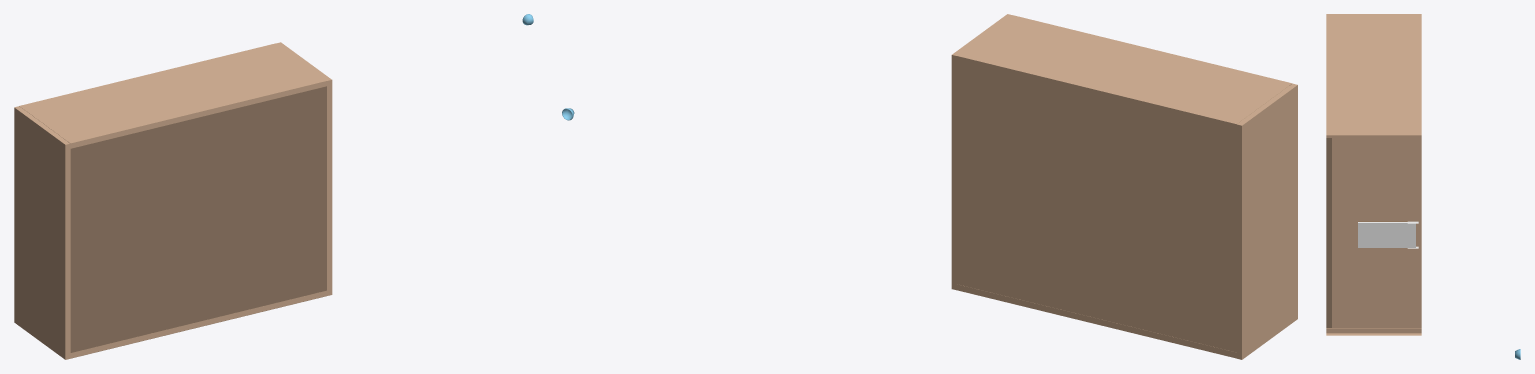
The model's file is livingroom.fbx.
3 renders of one model, left to right at view 1: azimuth 30°, elevation 25°; view 2: azimuth 150°, elevation 25°; view 3: azimuth 270°, elevation 25°, orthographic. The views are drawn at different scales.
Visible parts, largest first — view 1: Cube.038, Cube.042, Cube.039, Cube.041, Cube.040; view 2: Cube.037, Cube.042, Cube.039, Cube.040, Cube.041; view 3: Cube.040, Cube.042, CTRL_Hole.004, Cube.038, Cube.037, Cube.041, Cube.039.
Part boxes in pixels (x1,y1,x2,y2): Cube.038: [67, 86, 326, 358]; Cube.042: [19, 43, 327, 148]; Cube.039: [14, 106, 70, 359]; Cube.041: [70, 290, 327, 358]; Cube.040: [277, 42, 332, 295]; Cube.037: [957, 62, 1238, 358]; Cube.042: [957, 15, 1291, 129]; Cube.039: [1236, 83, 1297, 359]; Cube.040: [951, 14, 1011, 290]; Cube.041: [957, 284, 1236, 358]; Cube.040: [1326, 133, 1421, 335]; Cube.042: [1326, 16, 1421, 137]; CTRL_Hole.004: [1358, 222, 1415, 247]; Cube.038: [1326, 138, 1331, 327]; Cube.037: [1416, 138, 1421, 327]; Cube.041: [1326, 328, 1421, 333]; Cube.039: [1326, 14, 1421, 15].
Size of the model in its own units: 2224 by 801 by 703.
